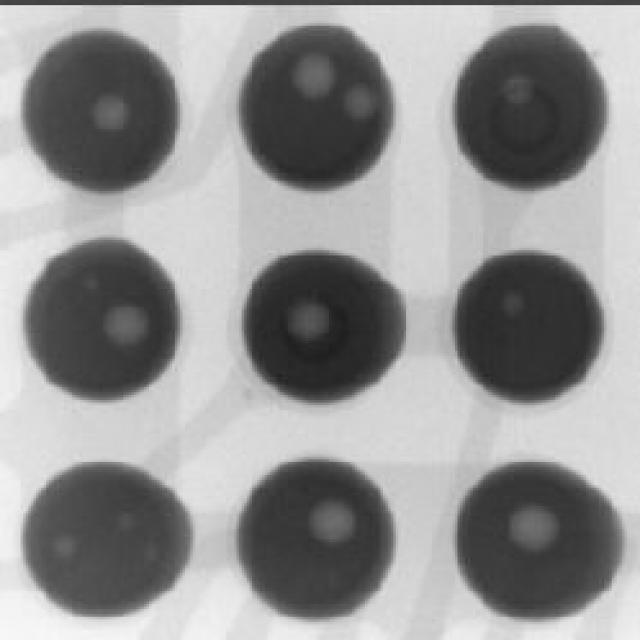component: (23, 465, 190, 617), (26, 240, 180, 400), (463, 467, 625, 618), (242, 26, 393, 187), (23, 31, 175, 190), (239, 465, 396, 618), (460, 26, 609, 185), (247, 258, 406, 401), (460, 258, 604, 401), (249, 501, 280, 574)
void: (107, 303, 151, 348), (512, 506, 559, 546), (290, 303, 331, 341), (300, 51, 335, 94), (92, 94, 129, 132), (319, 502, 353, 540), (493, 72, 535, 101), (344, 85, 379, 118), (45, 527, 75, 560), (499, 295, 521, 313)
